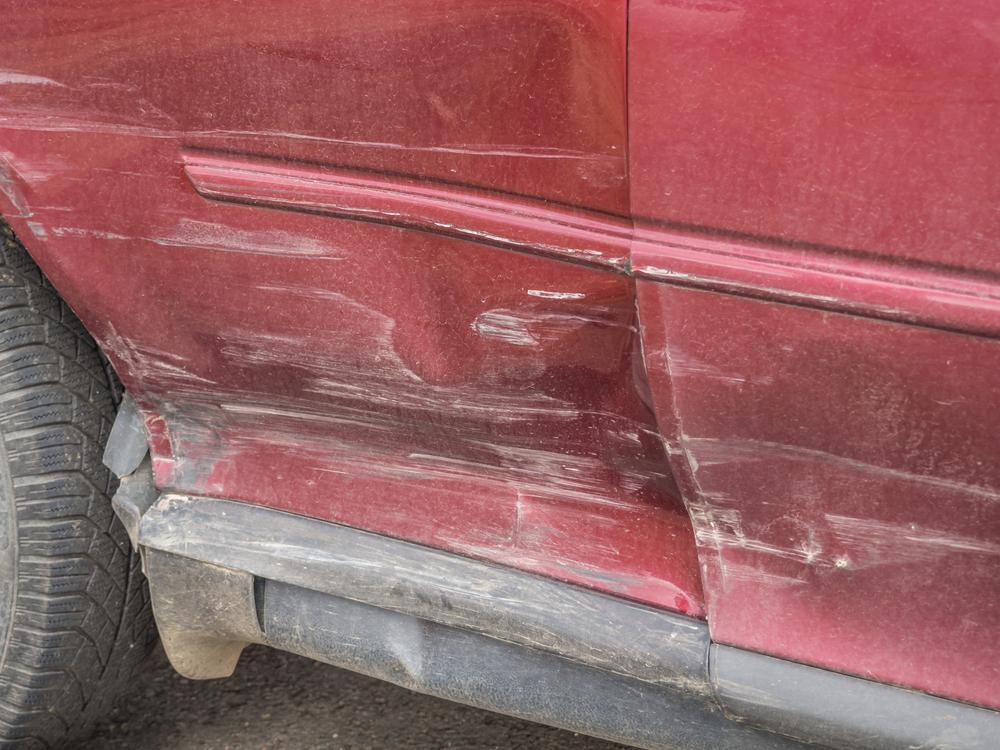dent: (105, 236, 704, 618), (134, 11, 602, 209)
scratch: (0, 64, 638, 377), (662, 427, 1000, 589), (632, 248, 949, 326)
